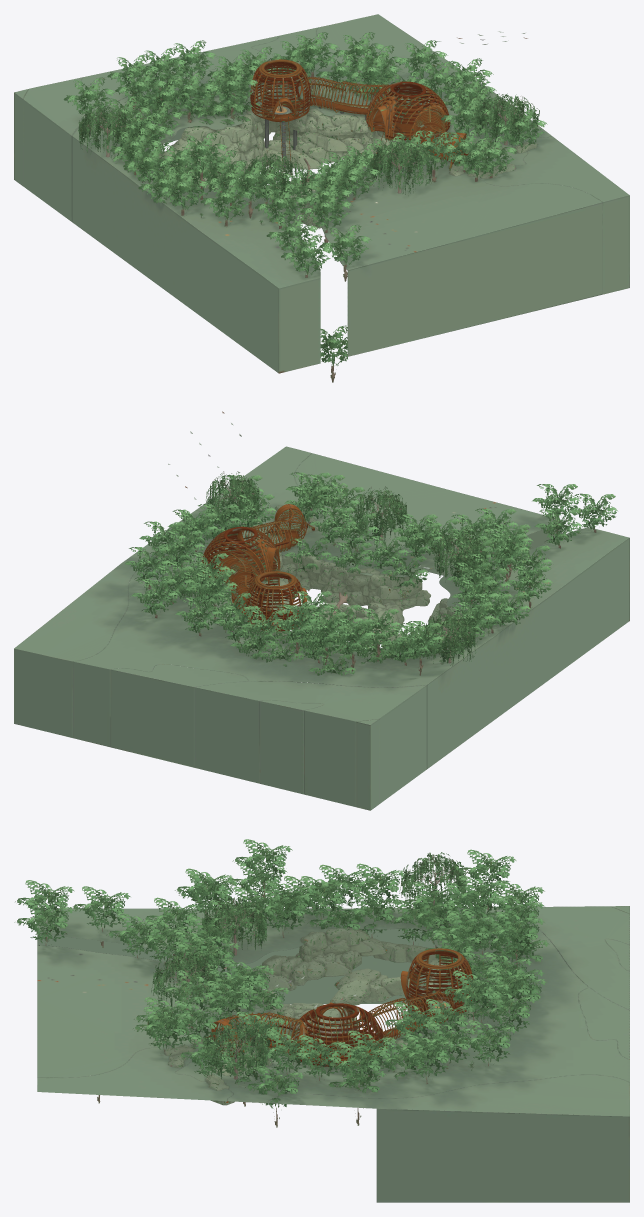
File: Tranquil-River-detail.glb
3 views of the same model, one above another, from view 1: azimuth 30°, elevation 25°; view 2: azimuth 150°, elevation 25°; view 3: azimuth 270°, elevation 25° (orthographic). The views are drawn at different scales.
Visible parts, largest first — view 1: bakegroup_zone-7, bakegroup_zone-8, bakegroup_zone-3, bakegroup_zone-5, bakegroup_zone-4, bakegroup_zone-2, bakegroup_zone-6; view 2: bakegroup_zone-7, bakegroup_zone-8, bakegroup_zone-3, bakegroup_zone-5, bakegroup_zone-4, bakegroup_zone-2, bakegroup_zone-1; view 3: bakegroup_zone-7, bakegroup_zone-8, bakegroup_zone-3, bakegroup_zone-5, bakegroup_zone-4, bakegroup_zone-2.
Boxes of the visible parts, x1,y1,x2,y2 form: bakegroup_zone-7: (14, 14, 629, 373); bakegroup_zone-8: (63, 32, 547, 382); bakegroup_zone-3: (366, 81, 451, 158); bakegroup_zone-5: (250, 59, 310, 121); bakegroup_zone-4: (295, 77, 448, 160); bakegroup_zone-2: (413, 106, 454, 161); bakegroup_zone-6: (265, 106, 408, 175); bakegroup_zone-7: (14, 446, 629, 810); bakegroup_zone-8: (124, 471, 617, 675); bakegroup_zone-3: (201, 526, 298, 584); bakegroup_zone-5: (246, 571, 307, 631); bakegroup_zone-4: (209, 531, 299, 615); bakegroup_zone-2: (242, 508, 306, 552); bakegroup_zone-1: (267, 504, 314, 534); bakegroup_zone-7: (37, 906, 629, 1202); bakegroup_zone-8: (14, 839, 549, 1127); bakegroup_zone-3: (231, 1002, 386, 1066); bakegroup_zone-5: (400, 948, 473, 1014); bakegroup_zone-4: (233, 989, 455, 1064); bakegroup_zone-2: (217, 1012, 302, 1053).
Size of the model in its own units: 36.47 by 22.03 by 45.24.
Materials: 1 (1 with a texture image).
